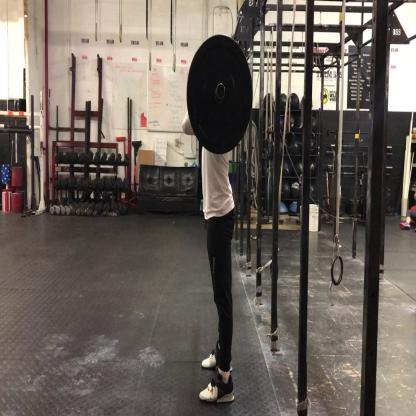Barbell: (185, 30, 255, 159)
